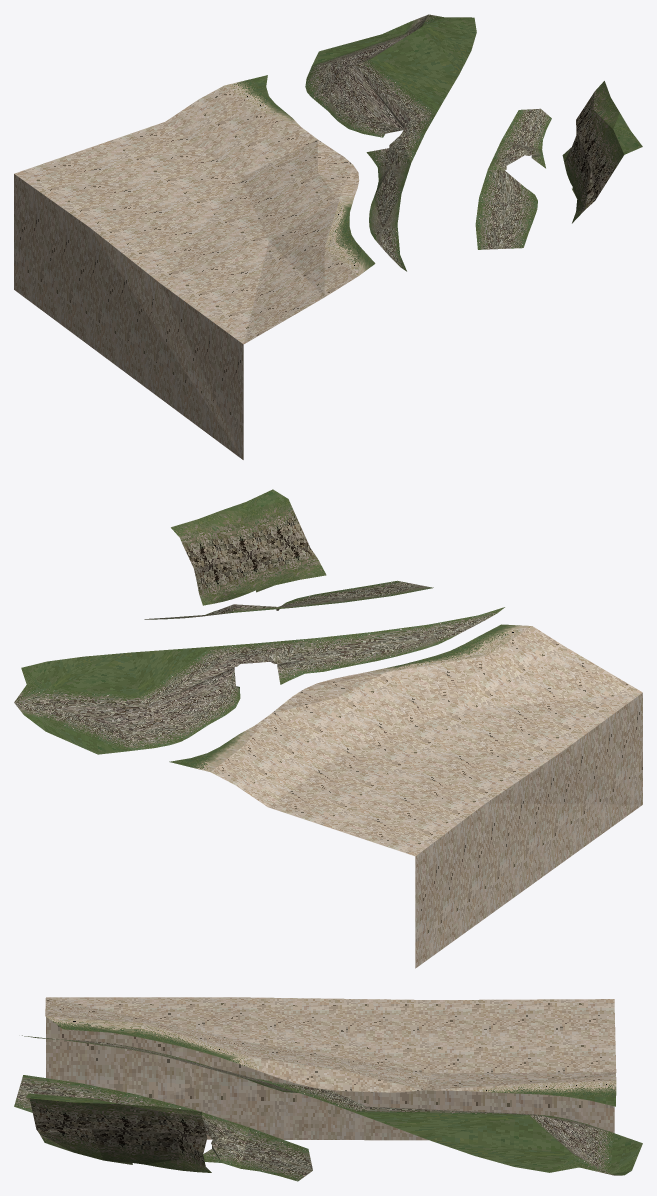
The model's file is lodcedpalcst01.obj.
The picture shows the model from 3 angles, top to bottom: view 1: azimuth 30°, elevation 25°; view 2: azimuth 150°, elevation 25°; view 3: azimuth 270°, elevation 25°; orthographic projection. The views are drawn at different scales.
Visible parts, largest first — view 1: LODCEdPALCST01; view 2: LODCEdPALCST01; view 3: LODCEdPALCST01.
Boxes of the visible parts, <box> form: LODCEdPALCST01: <box>14,14,642,459</box>; LODCEdPALCST01: <box>14,489,642,968</box>; LODCEdPALCST01: <box>14,997,642,1181</box>.
Bounding box in the file's own units: 259 × 130 × 264.
6 materials, 6 textured.
